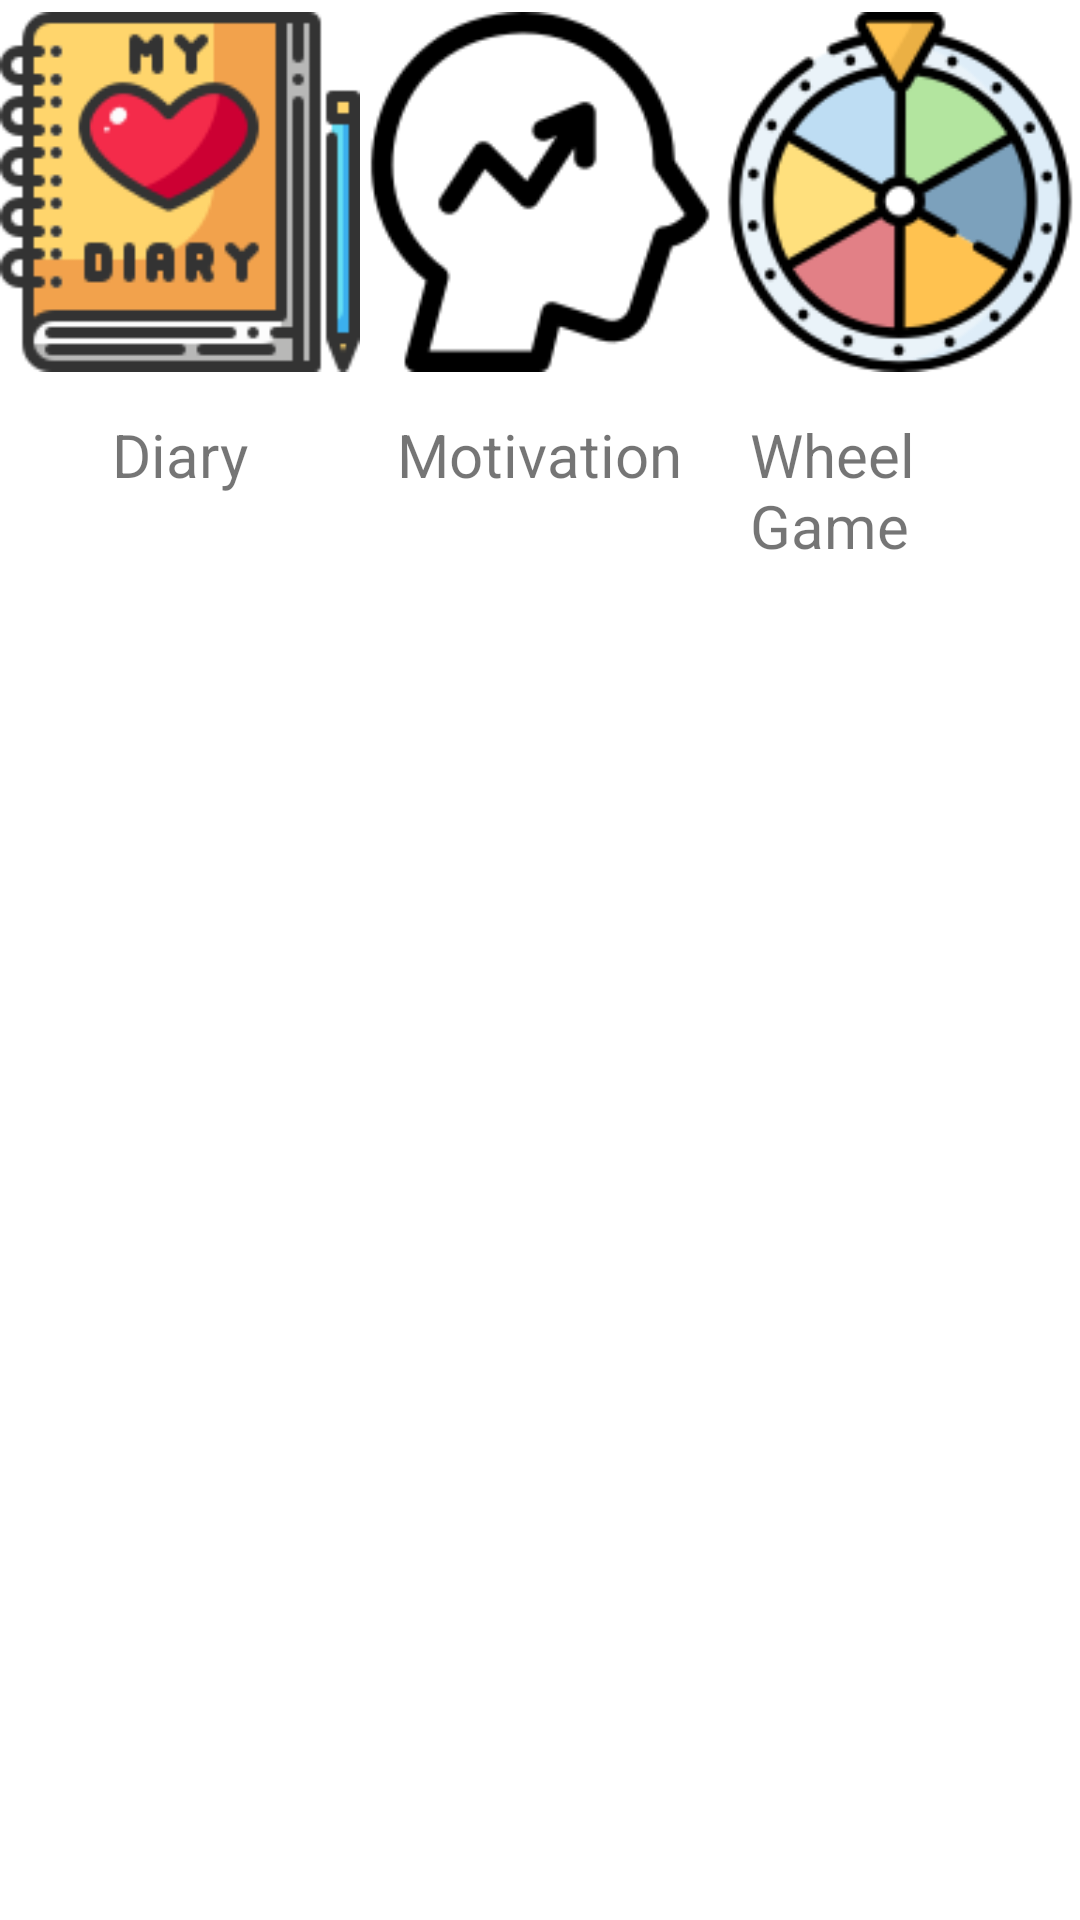

Icons on this 1080px x 1920px Android screen, each with the point to tap as [x,y]:
strongmental: [540,192]
